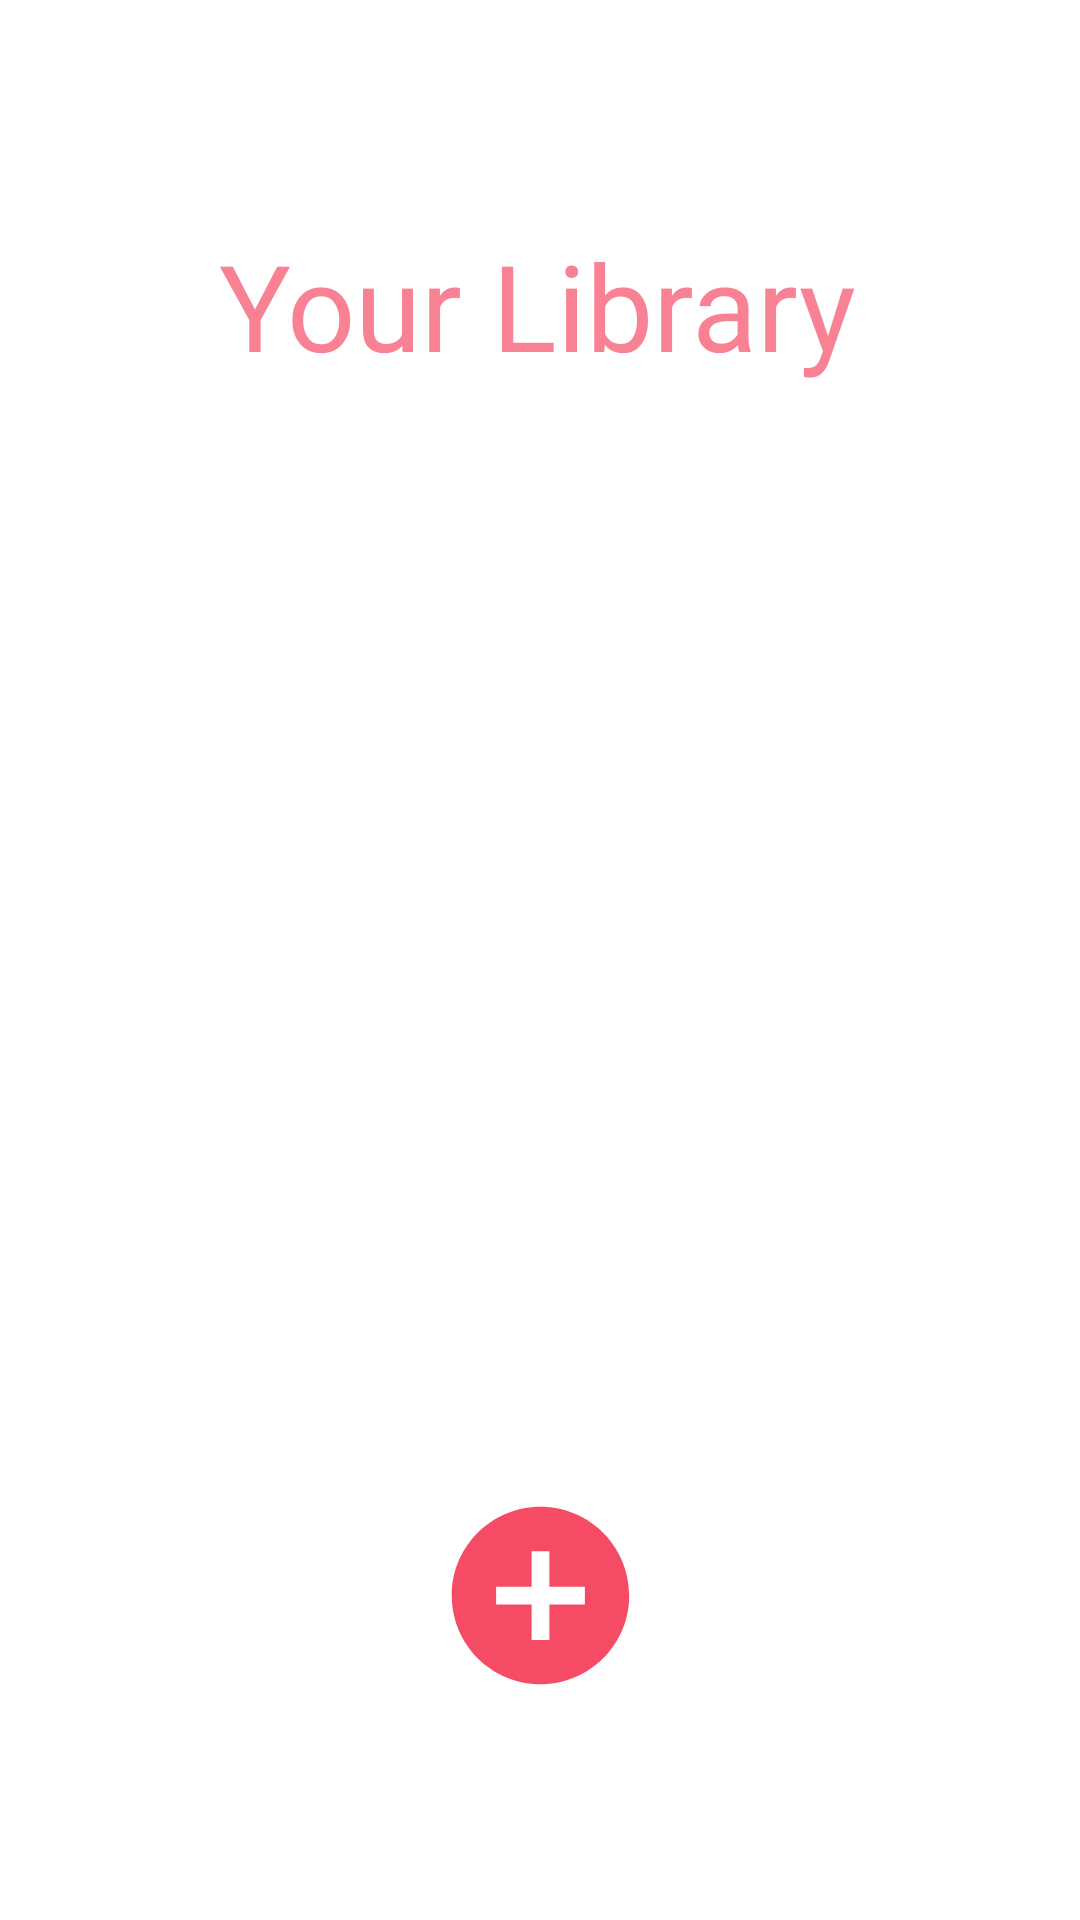

Icons on this 1080×1920 Android screen, each with its box as (x1, y1, x2, y2):
add circle: (451, 1506, 630, 1685)
